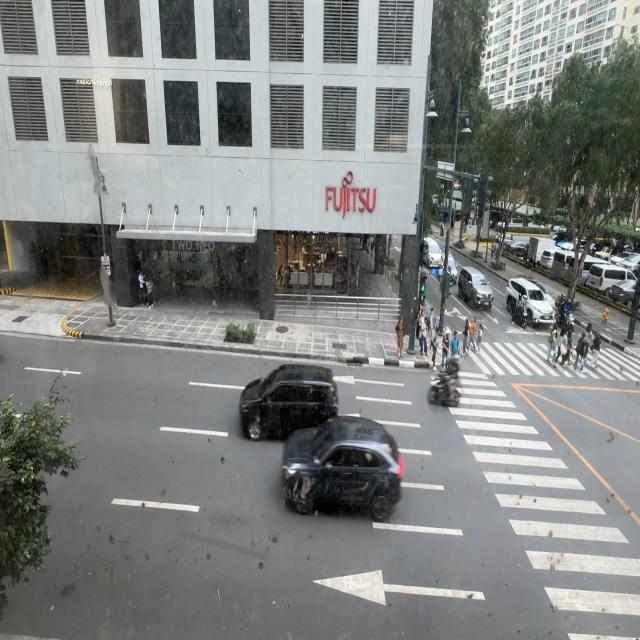crossing: (574, 333, 588, 371), (546, 327, 558, 365), (590, 330, 601, 370), (476, 317, 486, 358), (558, 331, 569, 367), (441, 332, 450, 370), (450, 331, 459, 363), (462, 318, 470, 353), (566, 327, 574, 362), (585, 324, 594, 354), (469, 316, 477, 347)
pedestrain: (153, 268, 162, 306)
waiting: (418, 312, 427, 354), (396, 317, 404, 360), (430, 330, 439, 368), (428, 307, 438, 341), (416, 303, 424, 331)
